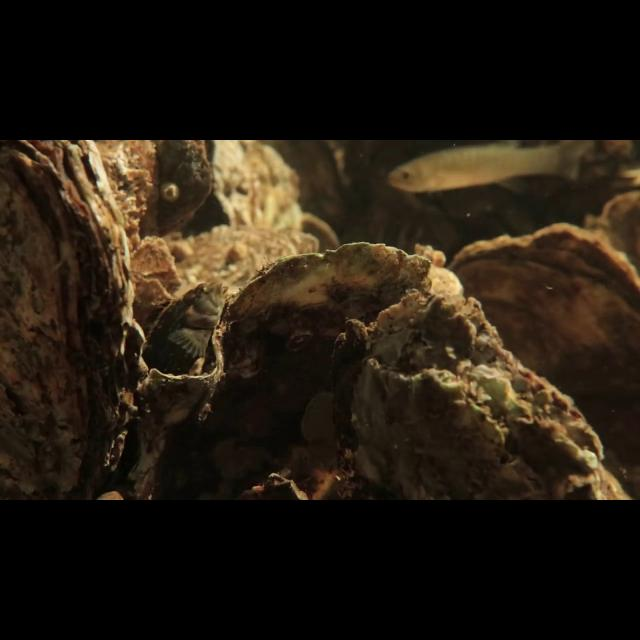Oyster-Closed: (271, 287, 639, 500), (219, 236, 457, 442), (4, 140, 137, 485), (447, 214, 638, 416), (346, 352, 548, 498)
